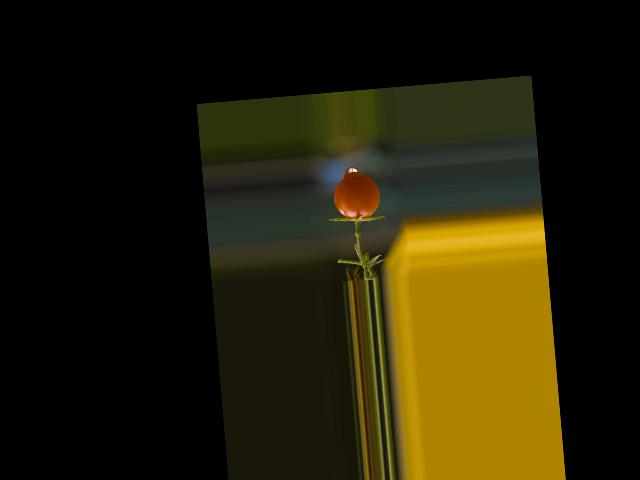tomato: (331, 172, 381, 221)
